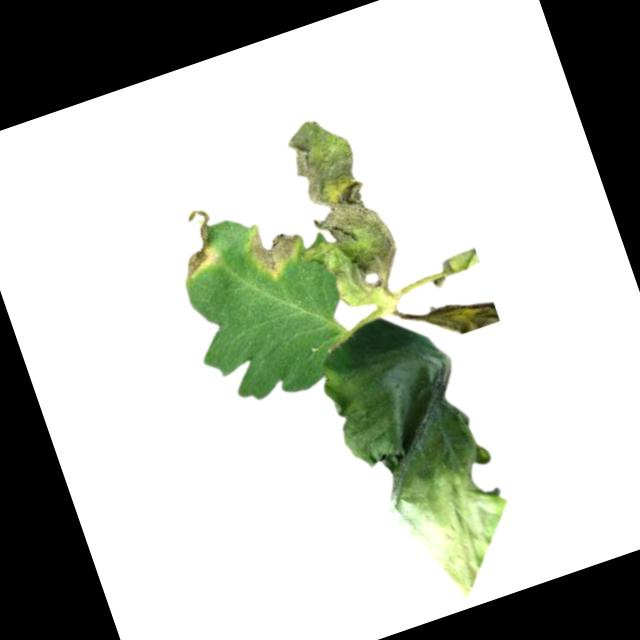Late_blight: (306, 294, 536, 620), (262, 108, 410, 316), (167, 204, 228, 281), (243, 217, 306, 285)
